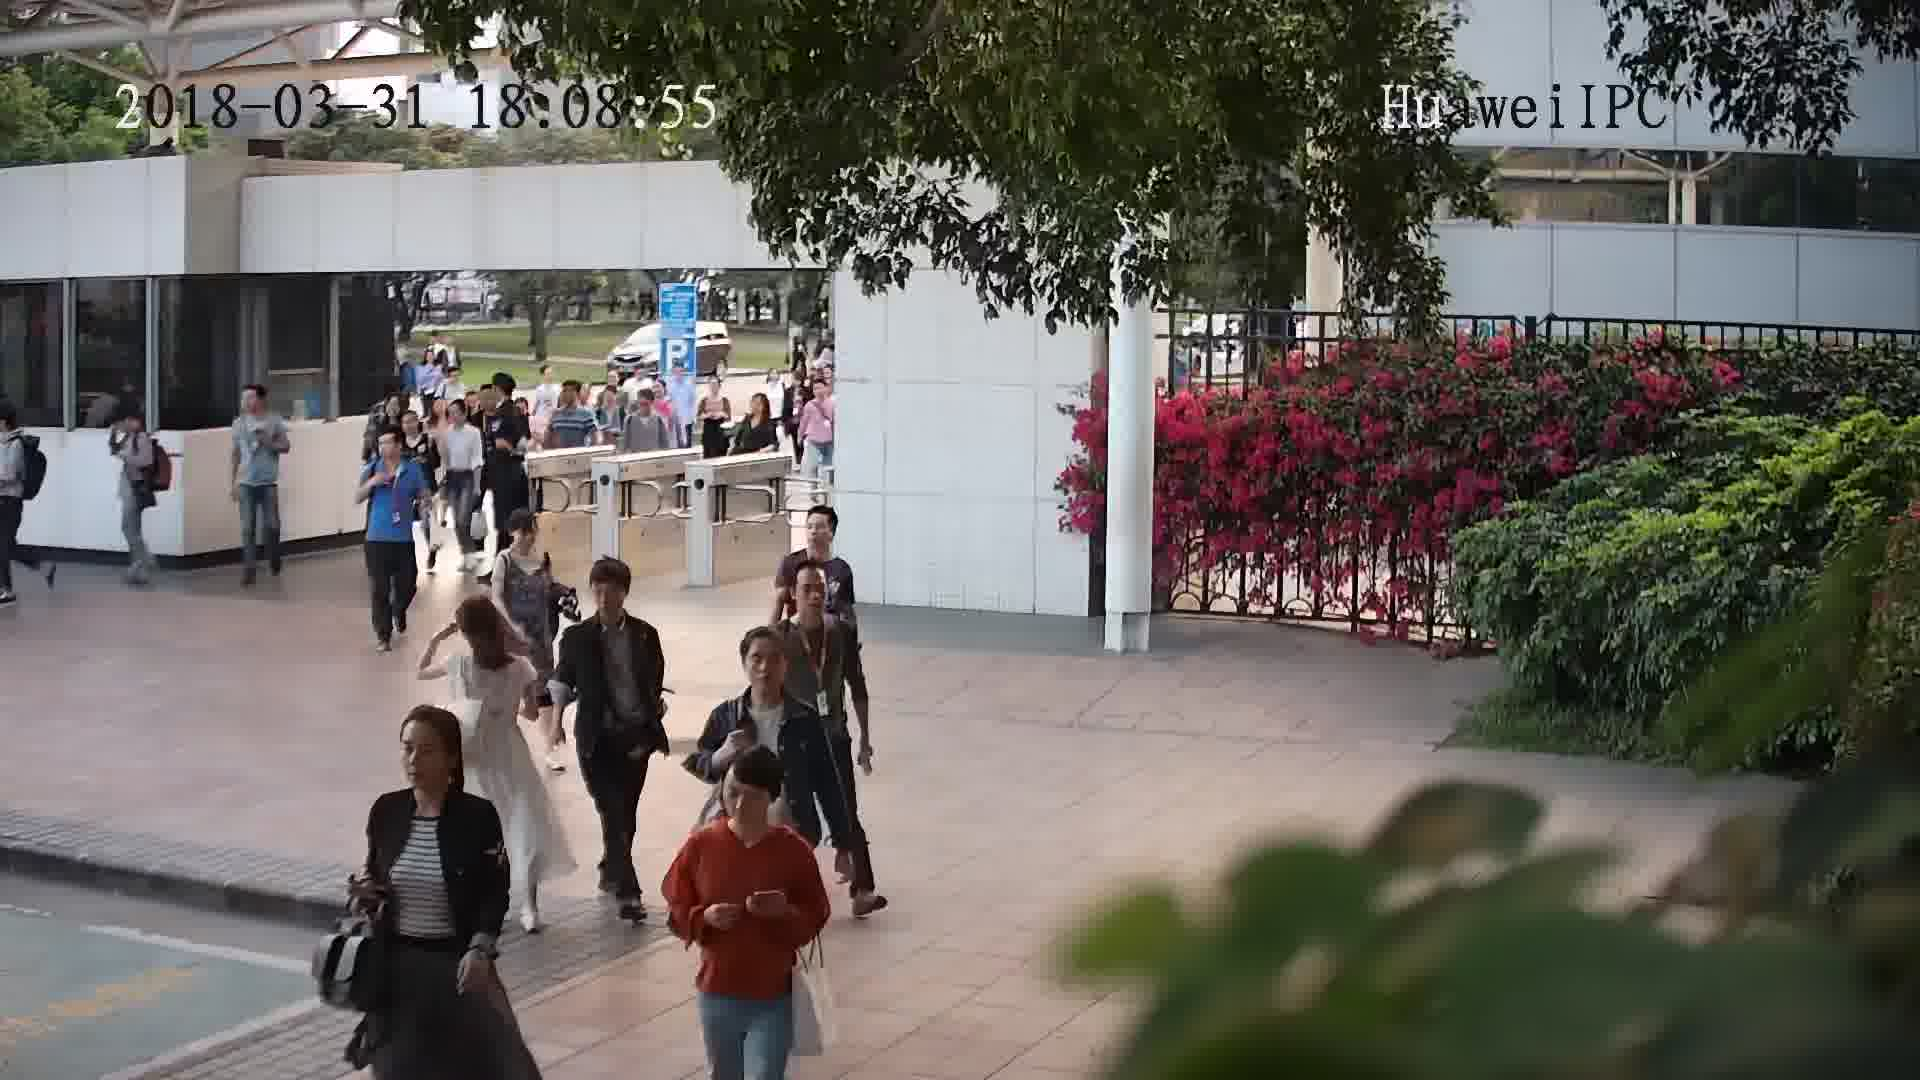face: (391, 718, 458, 785), (715, 766, 774, 825), (738, 637, 793, 692)
person: (365, 707, 505, 836), (678, 749, 813, 873), (715, 624, 817, 729), (564, 553, 659, 647), (441, 594, 532, 683), (773, 564, 848, 651), (782, 503, 853, 585), (490, 506, 557, 568), (363, 429, 423, 489), (230, 379, 285, 435), (109, 401, 161, 449), (386, 400, 434, 450), (620, 384, 668, 428), (442, 394, 483, 447), (0, 400, 37, 455), (548, 377, 593, 422), (736, 390, 779, 434), (698, 374, 738, 415), (800, 380, 833, 418), (424, 393, 455, 432), (596, 381, 627, 421), (533, 364, 565, 398)
